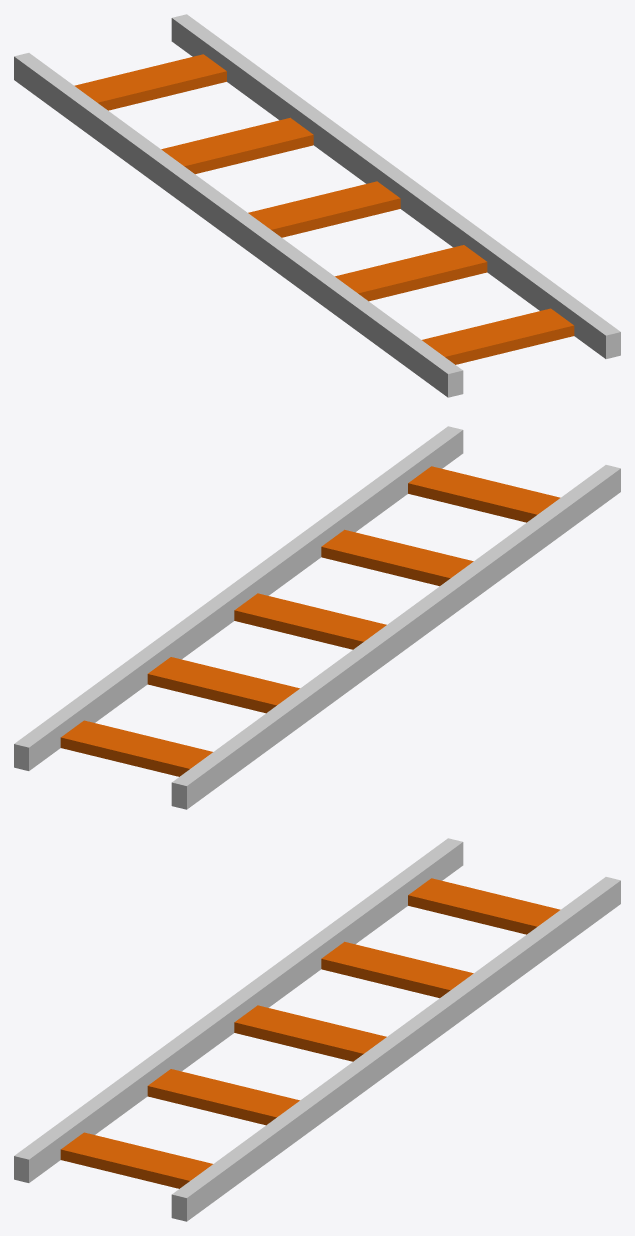
The model's file is tracks.gltf.
3 renders of one model, top to bottom at view 1: azimuth 30°, elevation 25°; view 2: azimuth 150°, elevation 25°; view 3: azimuth 330°, elevation 25°, orthographic.
Parts seen in each view (by area): view 1: Cube; view 2: Cube; view 3: Cube.
Boxes of the visible parts, left/top/right/bottom form: Cube: left=14, top=14, right=620, bottom=397; Cube: left=14, top=426, right=620, bottom=809; Cube: left=14, top=838, right=620, bottom=1221.
Size of the model in its own units: 1.15 by 0.15 by 5.
